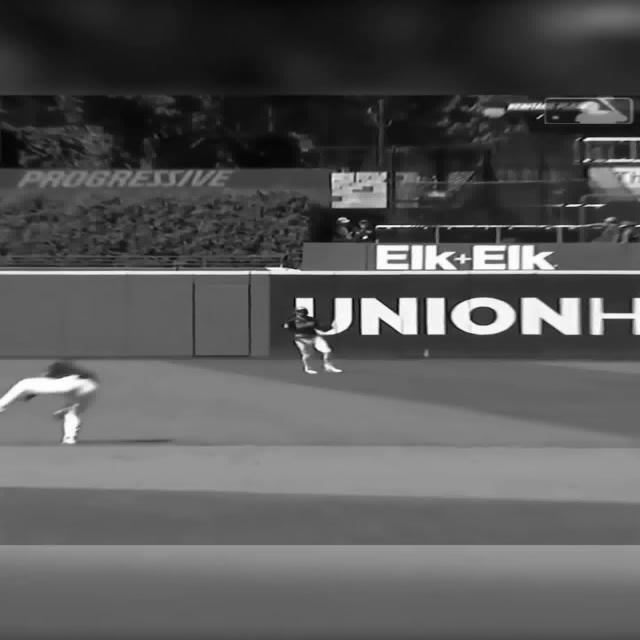baseball_glove: (52, 407, 70, 419)
shoe: (323, 364, 342, 373), (60, 437, 76, 444), (303, 369, 317, 374)
